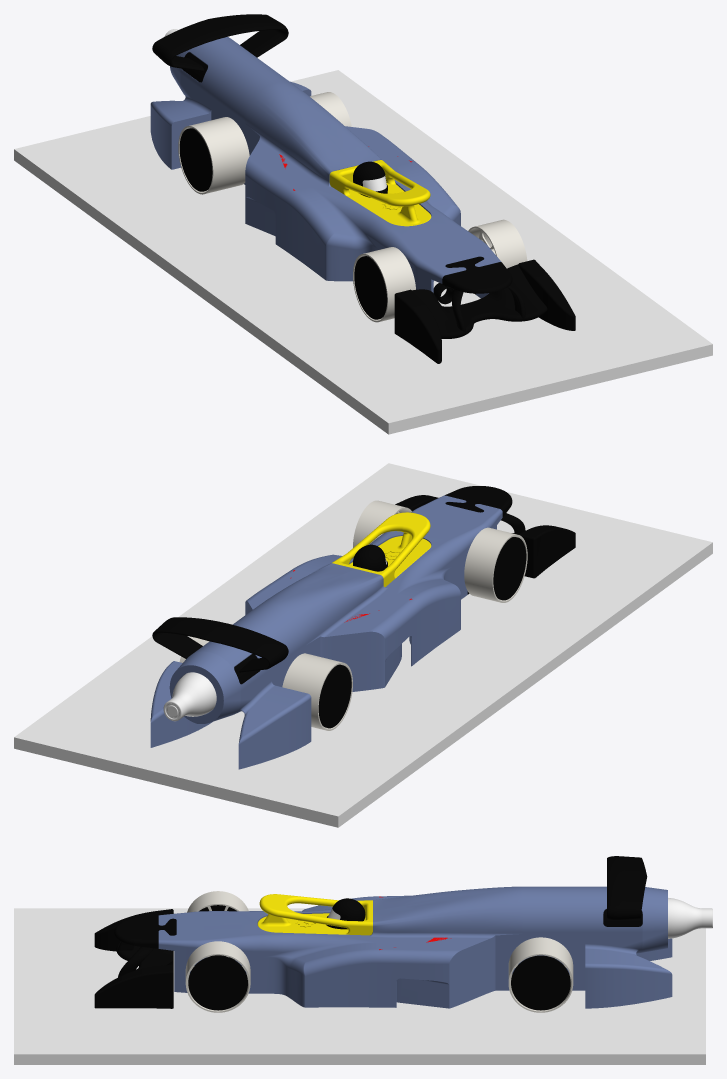
Rendered from cheepygood.glb.
3 renders of one model, top to bottom at view 1: azimuth 30°, elevation 25°; view 2: azimuth 150°, elevation 25°; view 3: azimuth 270°, elevation 25°, orthographic. The views are drawn at different scales.
Parts seen in each view (by area): view 1: Piste, ChÃ¢ssi, Aileron avant, Aileron arriÃ¨re, Halo with deeper notch Revision 2 For Release, Roue ar dr, Roue av dr, Roue av ga, Flasque ar dr, Flasque av dr, Bell Helmet with dowel, Roue ar ga; view 2: Piste, ChÃ¢ssi, Aileron arriÃ¨re, Aileron avant, Halo with deeper notch Revision 2 For Release, Roue av dr, Roue ar dr, F1CO2STD & F1CO2CMP, Flasque ar dr, Flasque av dr, Roue av ga, Bell Helmet with dowel; view 3: Piste, ChÃ¢ssi, Aileron avant, Halo with deeper notch Revision 2 For Release, Aileron arriÃ¨re, Flasque ar ga, Flasque av ga, Roue ar ga, Roue av ga, F1CO2STD & F1CO2CMP, Roue av dr, Bell Helmet with dowel.
Part boxes in pixels (left/top/right/bottom): Piste: left=14, top=70, right=712, bottom=434; ChÃ¢ssi: left=150, top=37, right=501, bottom=298; Aileron avant: left=394, top=256, right=575, bottom=363; Aileron arriÃ¨re: left=152, top=14, right=288, bottom=82; Halo with deeper notch Revision 2 For Release: left=329, top=160, right=431, bottom=226; Roue ar dr: left=178, top=117, right=249, bottom=194; Roue av dr: left=353, top=247, right=415, bottom=322; Roue av ga: left=468, top=219, right=527, bottom=268; Flasque ar dr: left=179, top=128, right=212, bottom=191; Flasque av dr: left=354, top=256, right=387, bottom=319; Bell Helmet with dowel: left=353, top=161, right=387, bottom=197; Roue ar ga: left=310, top=92, right=351, bottom=126; Piste: left=14, top=463, right=712, bottom=827; ChÃ¢ssi: left=150, top=495, right=502, bottom=769; Aileron arriÃ¨re: left=152, top=617, right=288, bottom=684; Aileron avant: left=395, top=486, right=575, bottom=578; Halo with deeper notch Revision 2 For Release: left=332, top=512, right=431, bottom=586; Roue av dr: left=464, top=527, right=527, bottom=602; Roue ar dr: left=282, top=653, right=352, bottom=730; F1CO2STD & F1CO2CMP: left=163, top=672, right=216, bottom=721; Flasque ar dr: left=318, top=664, right=351, bottom=728; Flasque av dr: left=493, top=537, right=526, bottom=600; Roue av ga: left=353, top=500, right=411, bottom=547; Bell Helmet with dowel: left=353, top=544, right=387, bottom=571; Piste: left=14, top=908, right=705, bottom=1064; ChÃ¢ssi: left=158, top=886, right=672, bottom=1008; Aileron avant: left=94, top=909, right=176, bottom=1008; Halo with deeper notch Revision 2 For Release: left=257, top=894, right=372, bottom=935; Aileron arriÃ¨re: left=603, top=856, right=647, bottom=926; Flasque ar ga: left=511, top=955, right=570, bottom=1010; Flasque av ga: left=188, top=955, right=247, bottom=1010; Roue ar ga: left=508, top=937, right=573, bottom=1012; Roue av ga: left=185, top=941, right=250, bottom=1012; F1CO2STD & F1CO2CMP: left=668, top=898, right=712, bottom=938; Roue av dr: left=187, top=891, right=248, bottom=912; Bell Helmet with dowel: left=326, top=898, right=365, bottom=929.
Bounding box in the file's own units: 0.15 × 0.056 × 0.303.
